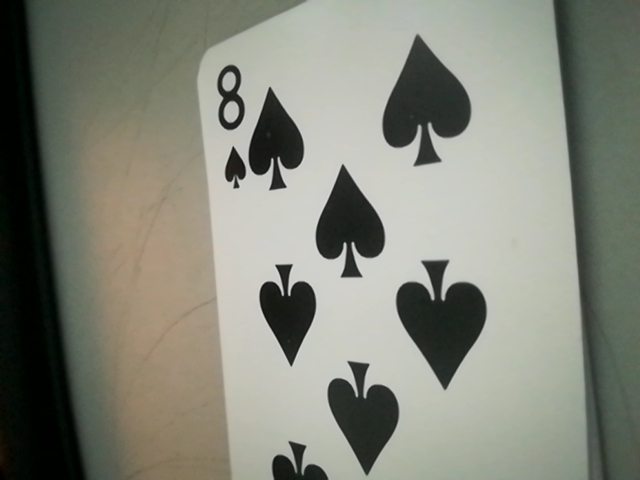ht 8: (201, 51, 272, 196)
